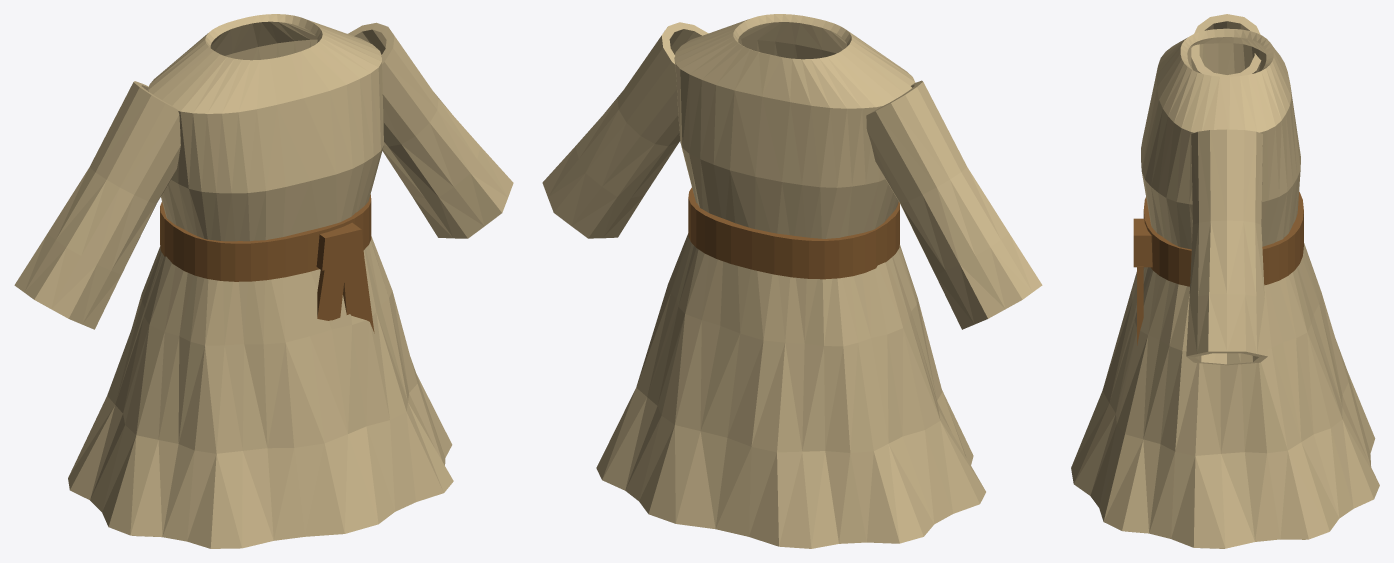
File: cotton_robe.obj
3 views of the same model, side by side, from view 1: azimuth 30°, elevation 25°; view 2: azimuth 150°, elevation 25°; view 3: azimuth 270°, elevation 25° (orthographic). The views are drawn at different scales.
Visible parts, largest first — view 1: A_Body.001_cotton_robe_cloth, C_Sleeve.001_cotton_robe_cloth, E_Sash.001_cotton_robe_sash, E_Knot.001_cotton_robe_sash, E_Tail1.001_cotton_robe_sash, E_Tail0.001_cotton_robe_sash; view 2: A_Body.001_cotton_robe_cloth, C_Sleeve.001_cotton_robe_cloth, E_Sash.001_cotton_robe_sash; view 3: A_Body.001_cotton_robe_cloth, C_Sleeve.001_cotton_robe_cloth, E_Sash.001_cotton_robe_sash, E_Knot.001_cotton_robe_sash, E_Tail1.001_cotton_robe_sash.
Boxes of the visible parts, left/top/right/bottom form: A_Body.001_cotton_robe_cloth: left=68, top=14, right=453, bottom=548; C_Sleeve.001_cotton_robe_cloth: left=14, top=22, right=513, bottom=329; E_Sash.001_cotton_robe_sash: left=160, top=194, right=371, bottom=281; E_Knot.001_cotton_robe_sash: left=316, top=222, right=364, bottom=270; E_Tail1.001_cotton_robe_sash: left=343, top=260, right=374, bottom=333; E_Tail0.001_cotton_robe_sash: left=317, top=266, right=344, bottom=320; A_Body.001_cotton_robe_cloth: left=596, top=14, right=985, bottom=548; C_Sleeve.001_cotton_robe_cloth: left=542, top=22, right=1042, bottom=329; E_Sash.001_cotton_robe_sash: left=688, top=187, right=899, bottom=279; A_Body.001_cotton_robe_cloth: left=1071, top=28, right=1379, bottom=548; C_Sleeve.001_cotton_robe_cloth: left=1186, top=14, right=1267, bottom=365; E_Sash.001_cotton_robe_sash: left=1143, top=192, right=1303, bottom=286; E_Knot.001_cotton_robe_sash: left=1133, top=218, right=1152, bottom=267; E_Tail1.001_cotton_robe_sash: left=1137, top=266, right=1143, bottom=345.
Bounding box in the file's own units: 3.16 × 2.77 × 1.85.
